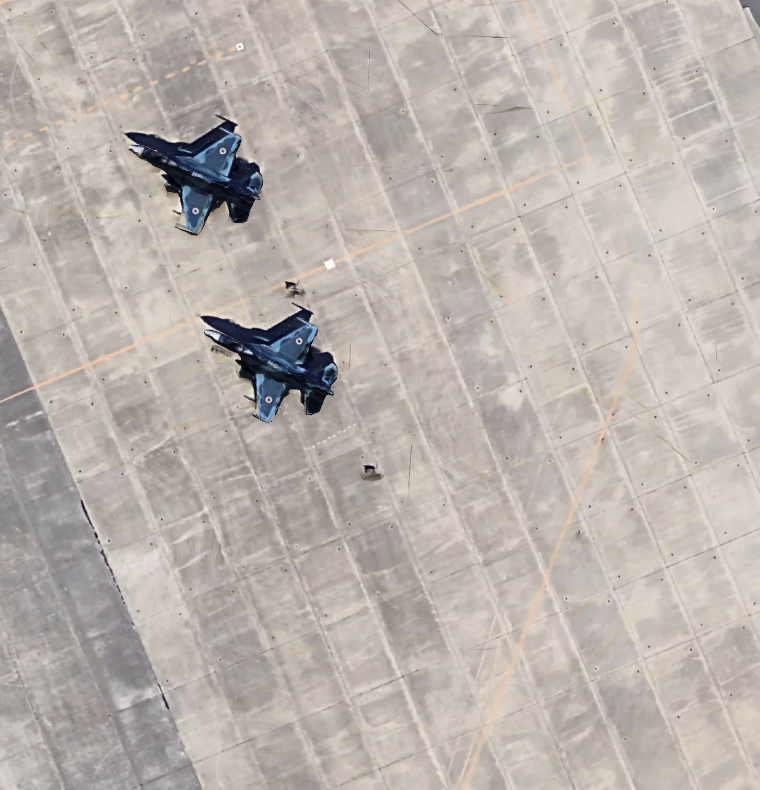A5: (125, 106, 269, 246), (199, 287, 343, 427)
